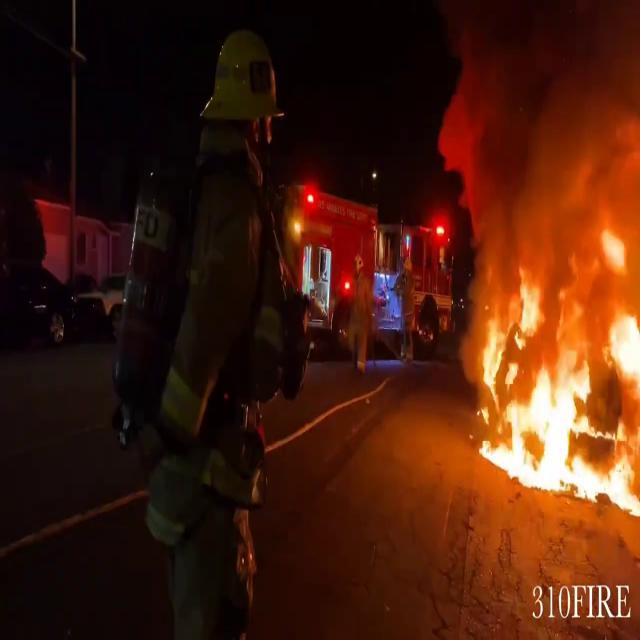Fire: (470, 216, 640, 509)
Smoke: (435, 0, 640, 264)
